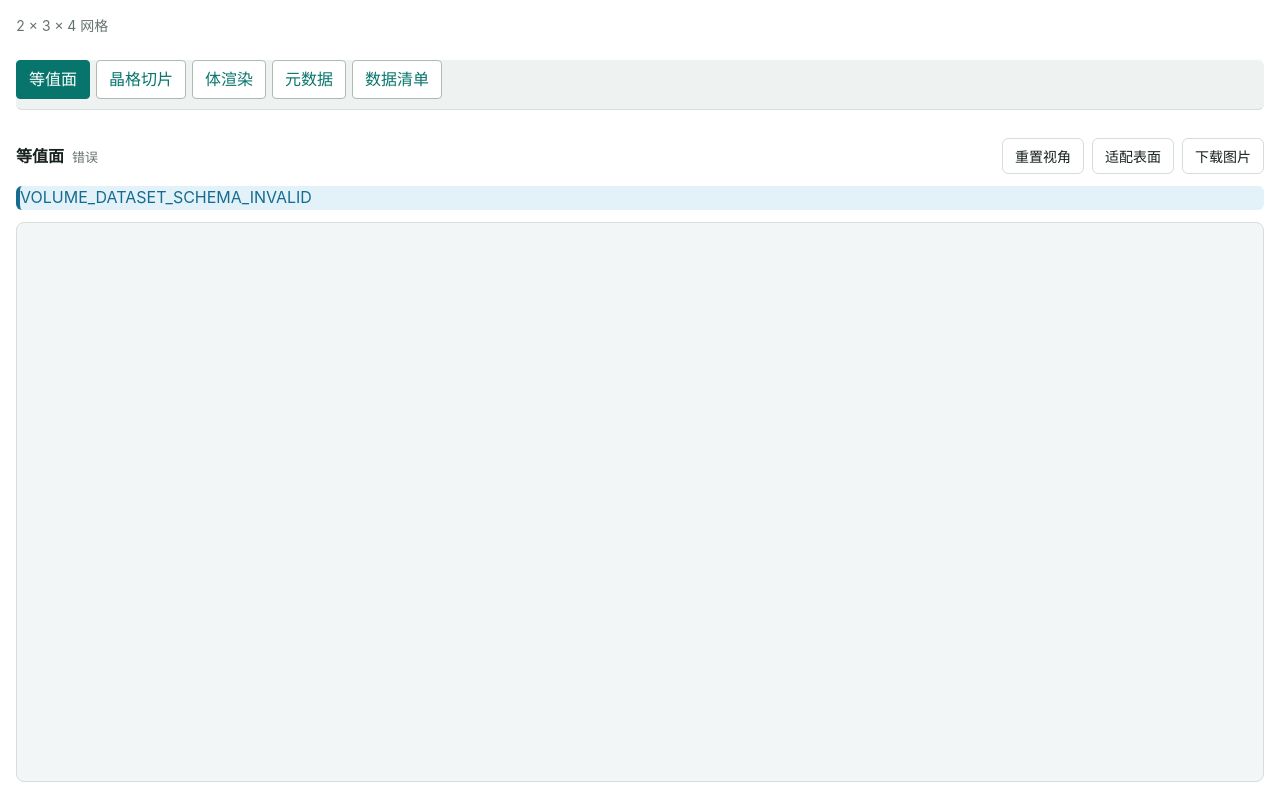
Scenario: Phase 9C PlannerWorkbench › renders bounded volumetric metadata without binary values or executable content
Click the tab "元数据" at (309, 80), box [272, 60, 346, 100]
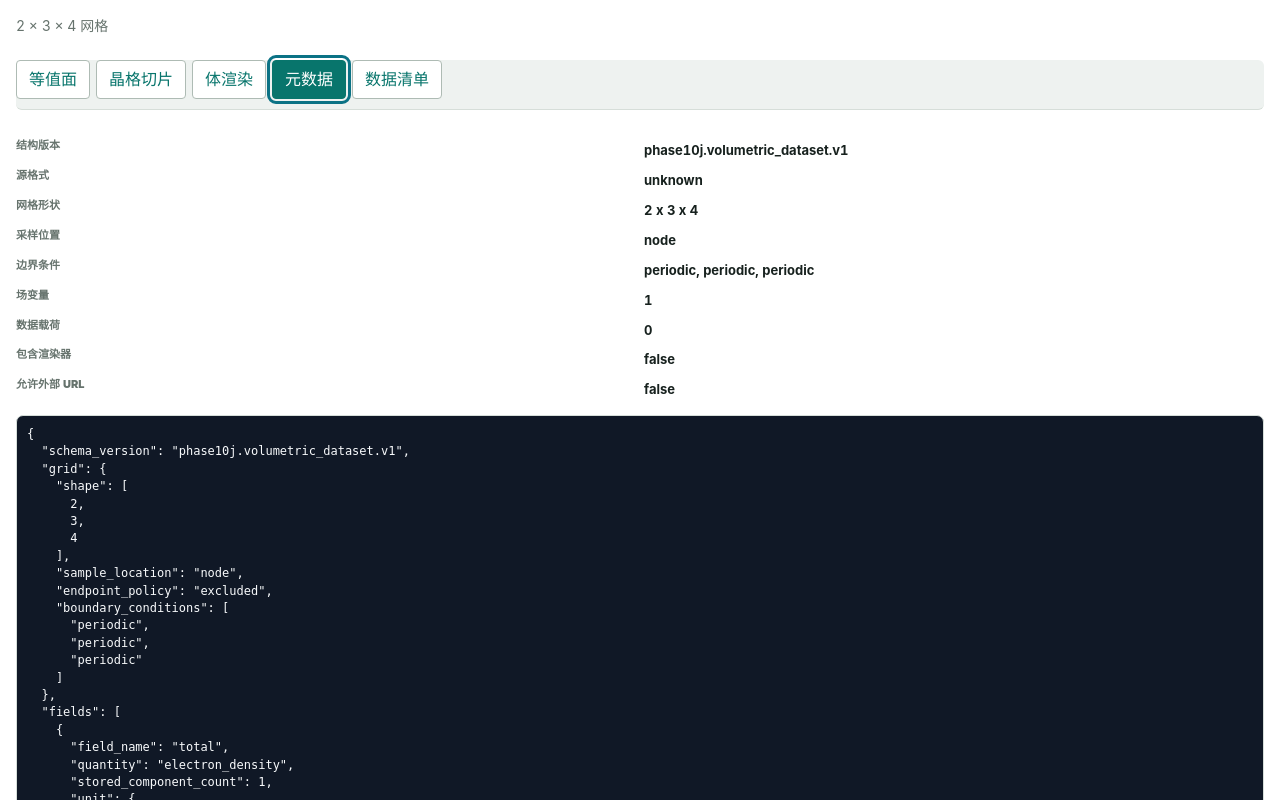
Now the text "2 x 3 x 4" is shown, box [644, 202, 698, 218]
Now the 1st text "false" is shown, box [644, 351, 675, 367]
